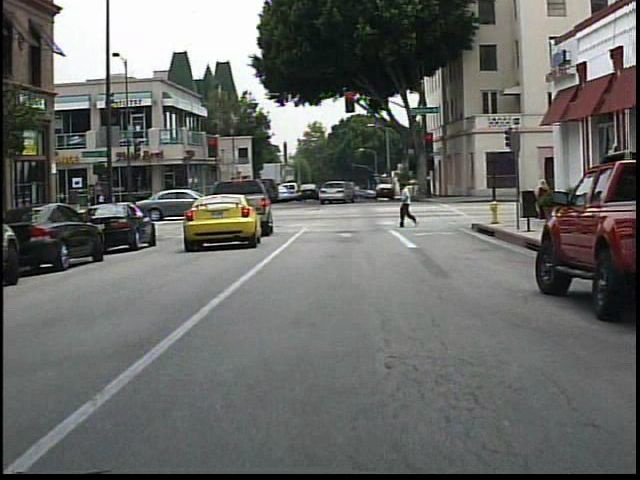person: (395, 180, 421, 231), (534, 175, 555, 194)
